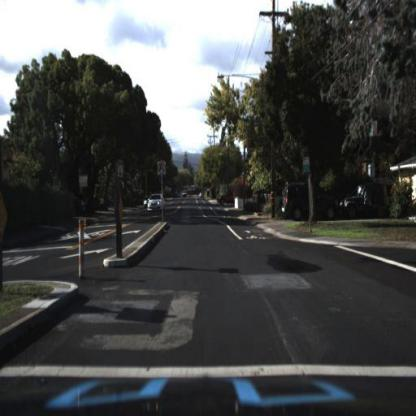car: (276, 177, 339, 222), (338, 184, 385, 223), (145, 193, 165, 218), (217, 190, 238, 208)
